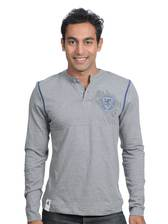clothoes: (21, 67, 147, 221)
